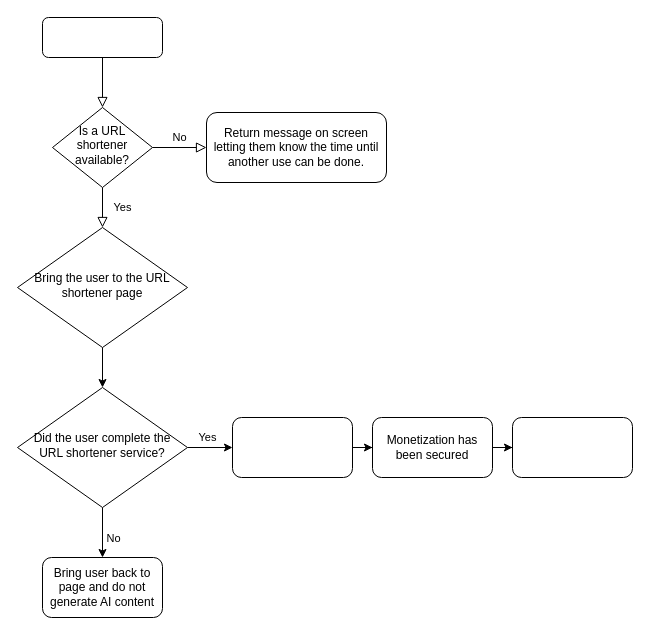
Some shapes in this 650 by 635 pixel diagram are drawn without their labels. Each missing label, with the centre of its shape:
Generate AI content for user: the point at 572,447
Remove a use of that used URL shotener: the point at 292,447
User makes query by clicking search icon: the point at 102,37
